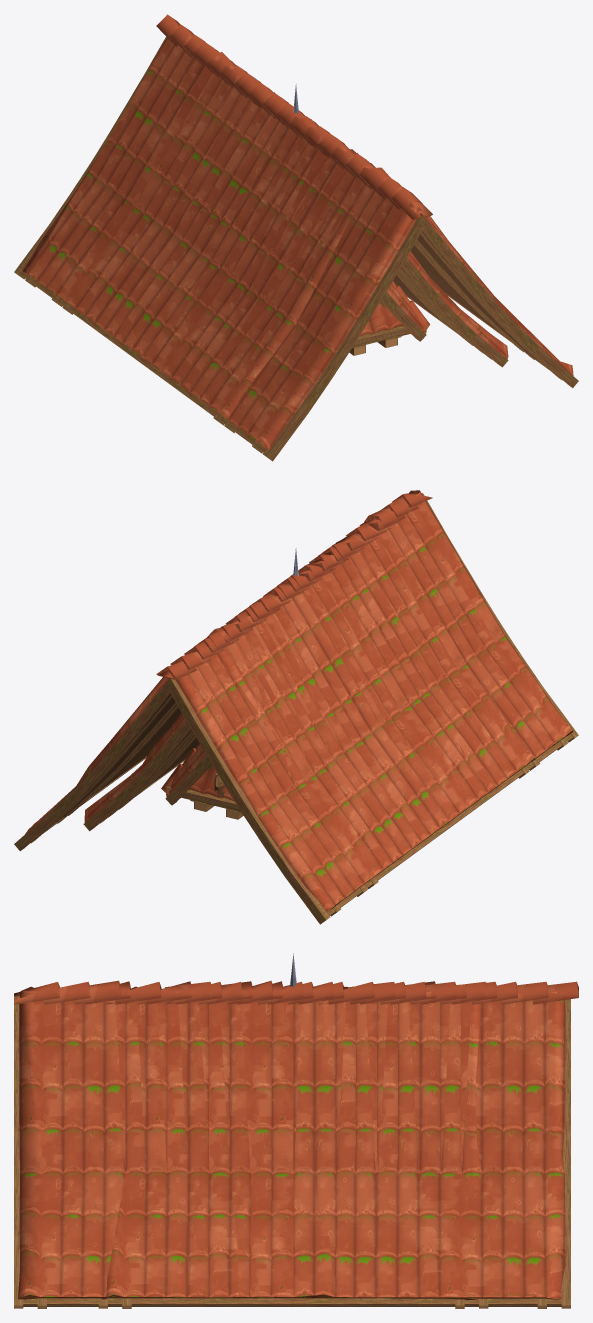
File: village.glb
3 renders of one model, top to bottom at view 1: azimuth 30°, elevation 25°; view 2: azimuth 150°, elevation 25°; view 3: azimuth 270°, elevation 25°, orthographic. The views are drawn at different scales.
Parts seen in each view (by area): view 1: Roof_RoundTiles_8x12, Roof_RoundTiles_8x8, Roof_RoundTiles_6x8, Roof_Tower_RoundTiles, Roof_RoundTiles_4x4, Roof_RoundTiles_6x6; view 2: Roof_RoundTiles_8x12, Roof_RoundTiles_8x8, Roof_RoundTiles_6x8, Roof_Tower_RoundTiles, Roof_RoundTiles_4x4, Roof_RoundTiles_6x6; view 3: Roof_RoundTiles_8x12, Roof_RoundTiles_8x8.
Boxes of the visible parts, x1,y1,x2,y2 form: Roof_RoundTiles_8x12: (14,14,578,461); Roof_RoundTiles_8x8: (51,41,534,433); Roof_RoundTiles_6x8: (399,251,508,367); Roof_Tower_RoundTiles: (293,84,429,355); Roof_RoundTiles_4x4: (380,283,426,341); Roof_RoundTiles_6x6: (393,270,483,353); Roof_RoundTiles_8x12: (14,490,578,924); Roof_RoundTiles_8x8: (57,518,540,896); Roof_RoundTiles_6x8: (83,713,193,831); Roof_Tower_RoundTiles: (161,548,298,819); Roof_RoundTiles_4x4: (165,746,212,805); Roof_RoundTiles_6x6: (108,733,199,817); Roof_RoundTiles_8x12: (14,980,578,1308); Roof_RoundTiles_8x8: (85,981,497,1308).
Bounding box in the file's own units: 9.95 × 8.91 × 14.09.
9 materials, 8 textured.
